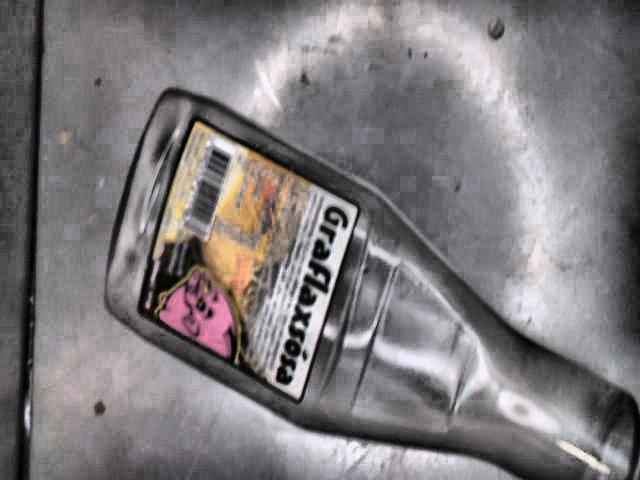Plastic: (106, 88, 640, 480)
